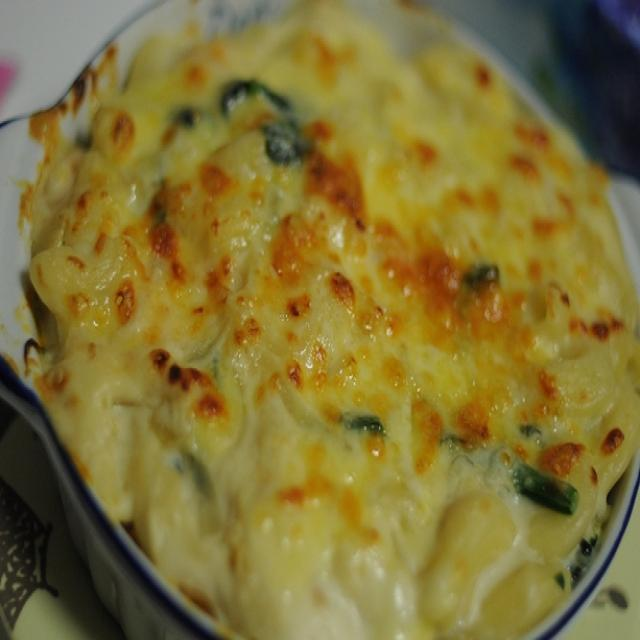米饭主食: (20, 28, 625, 604)
